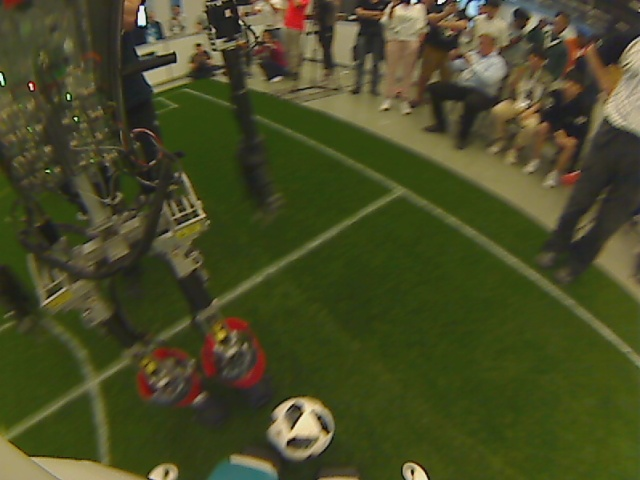ball: (266, 393, 336, 461)
